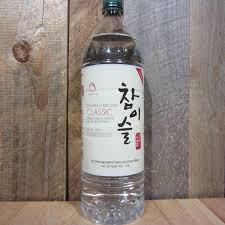soju: (79, 1, 147, 225)
